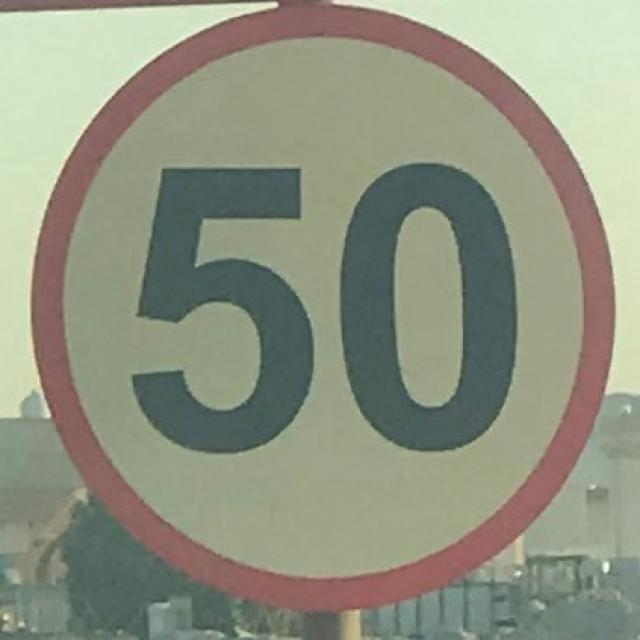Limite-50: (31, 1, 620, 620)
